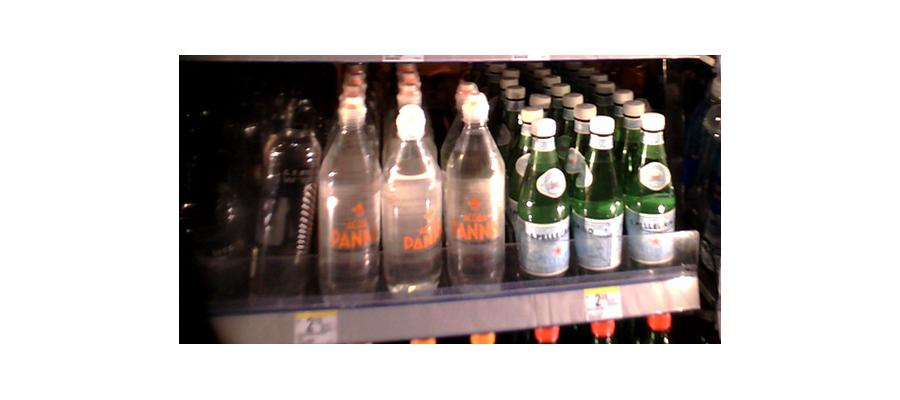bottle: (314, 70, 379, 298), (252, 88, 316, 303), (379, 107, 442, 298), (445, 96, 504, 290), (517, 118, 572, 281), (575, 114, 625, 278), (629, 107, 677, 271), (199, 144, 245, 286)
